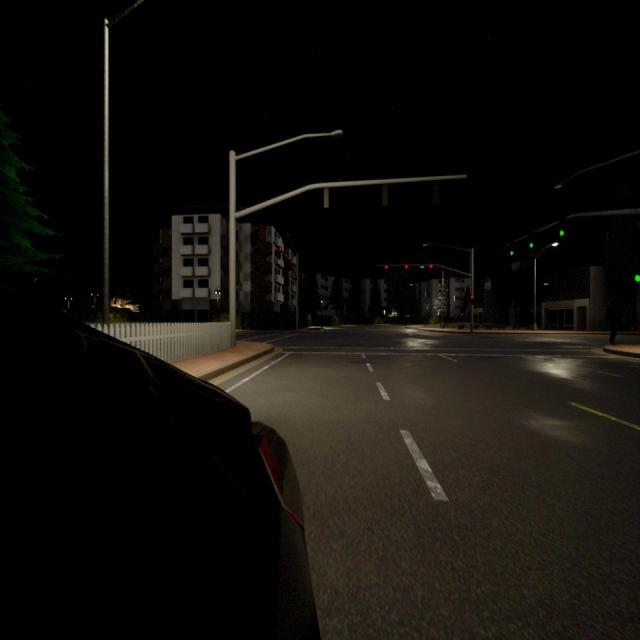Vehicle: (0, 286, 319, 638)
traffic_light: (560, 222, 564, 236), (634, 274, 640, 282), (530, 236, 534, 248), (510, 244, 514, 255), (471, 294, 474, 303), (385, 264, 388, 270), (429, 264, 433, 268), (405, 265, 408, 269)
